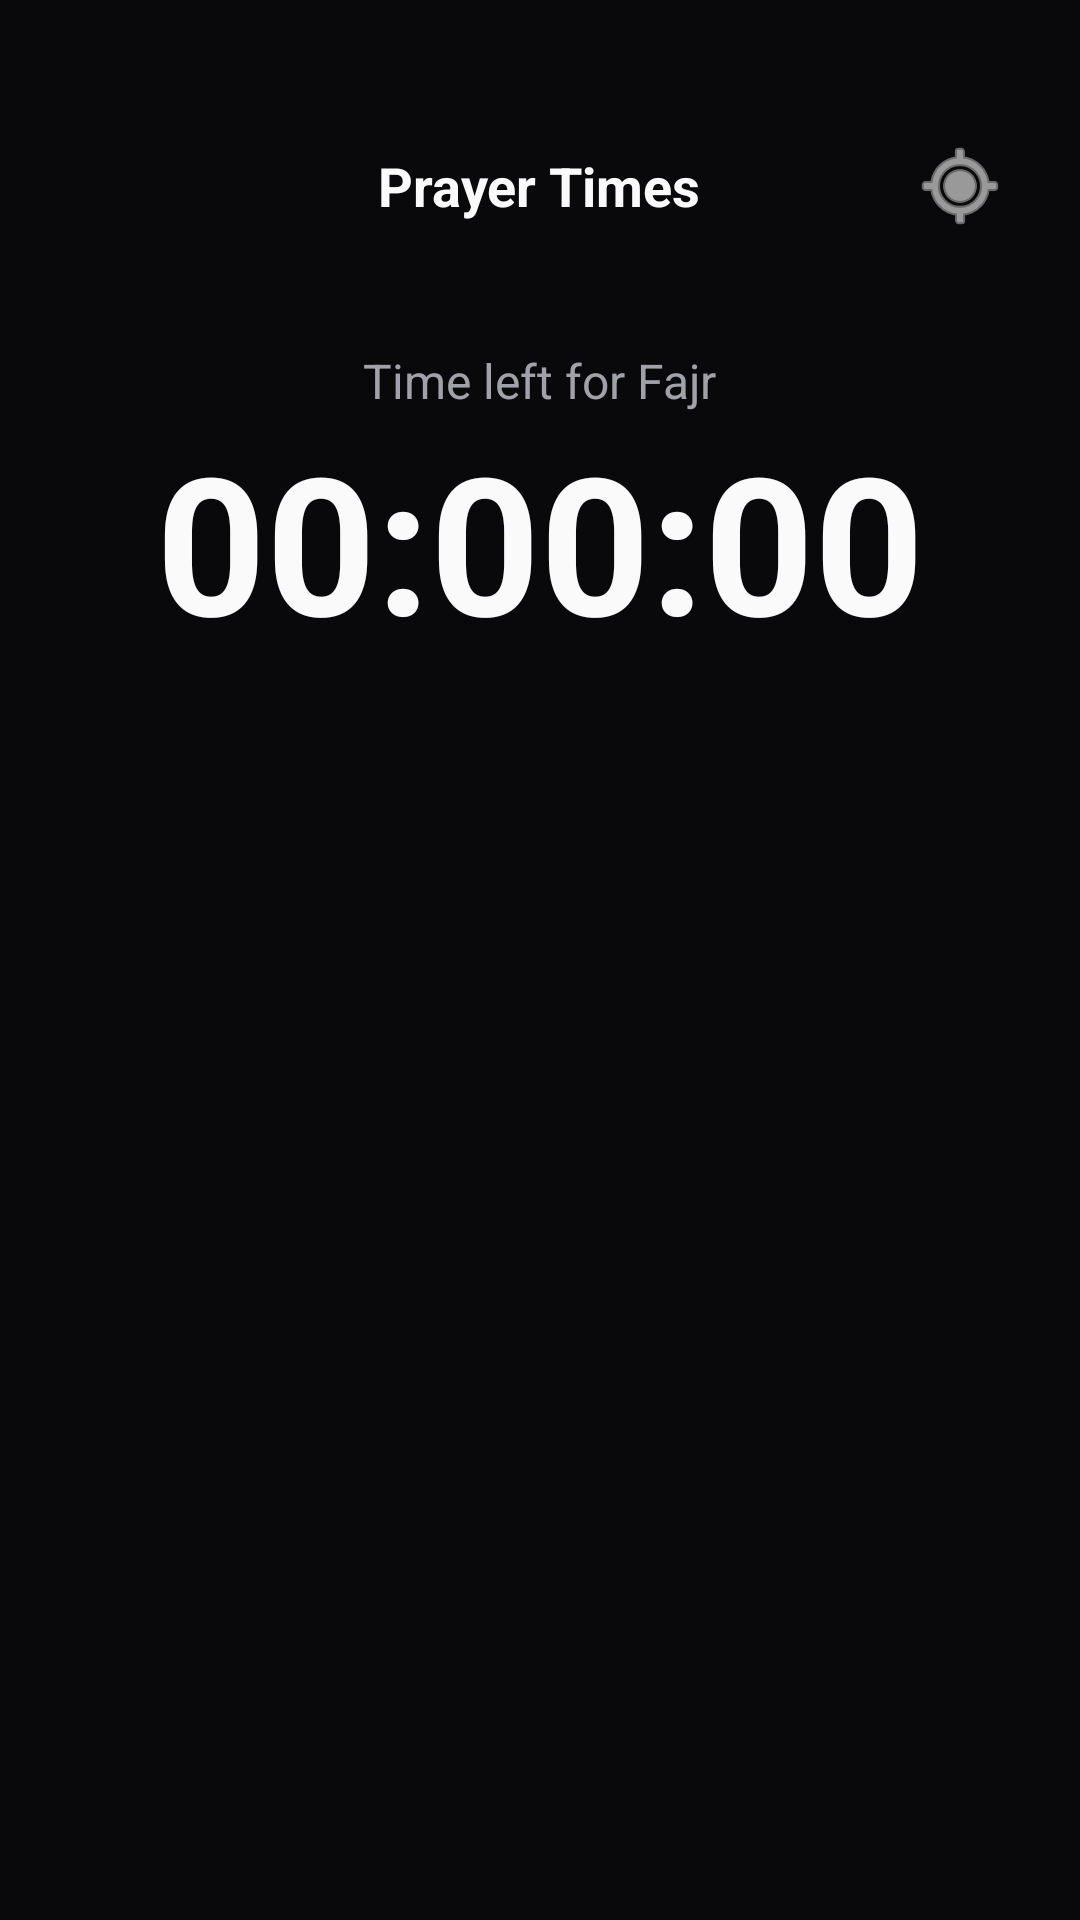

Where to tap for icons on this 1080*1920 app screen, as [x,y]:
mylocation: [960,186]
